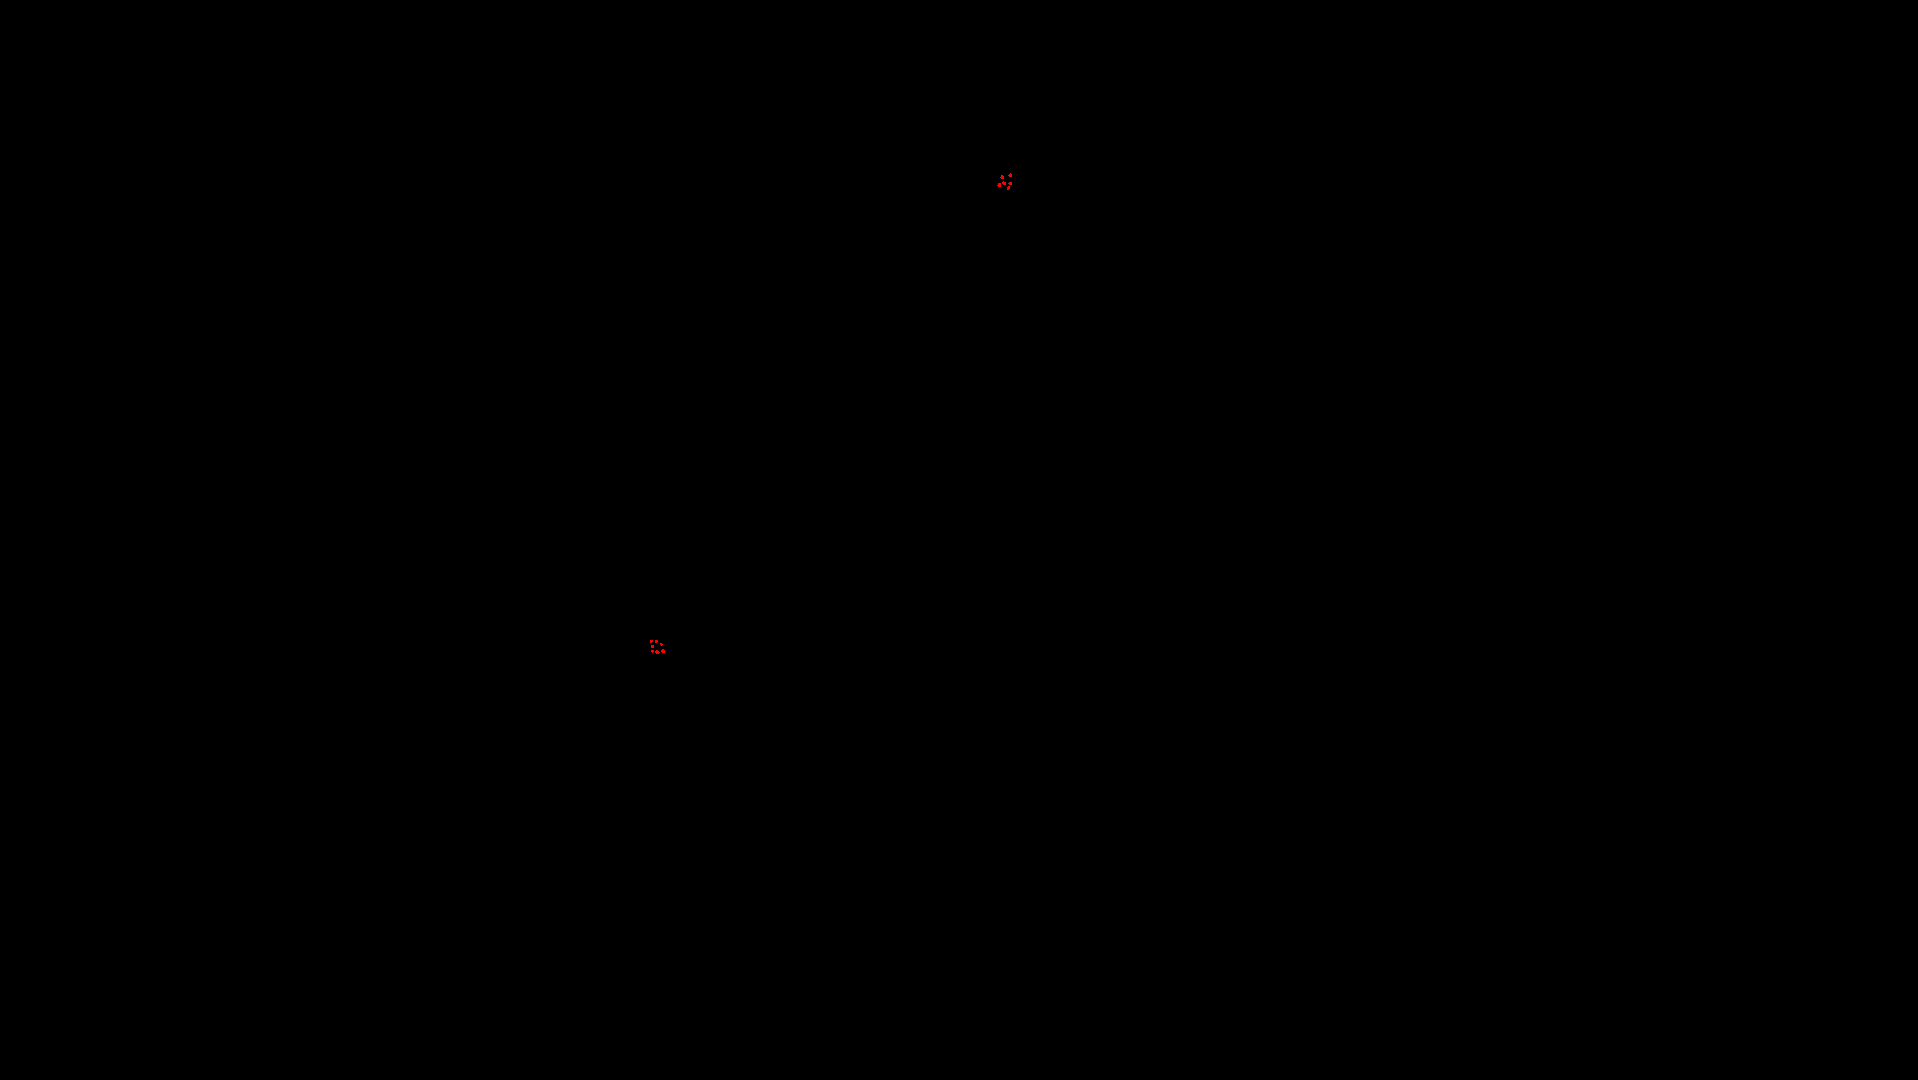Target: (655, 651, 660, 655), (1008, 173, 1012, 176), (1000, 175, 1004, 179), (1002, 180, 1006, 184), (997, 183, 1001, 187), (1006, 186, 1010, 190), (661, 649, 665, 653), (1008, 182, 1012, 184), (649, 640, 653, 643), (655, 640, 659, 643), (660, 643, 663, 645), (651, 645, 653, 648), (651, 651, 653, 653)
